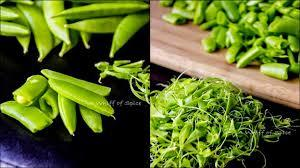Organic: (2, 4, 300, 168)
